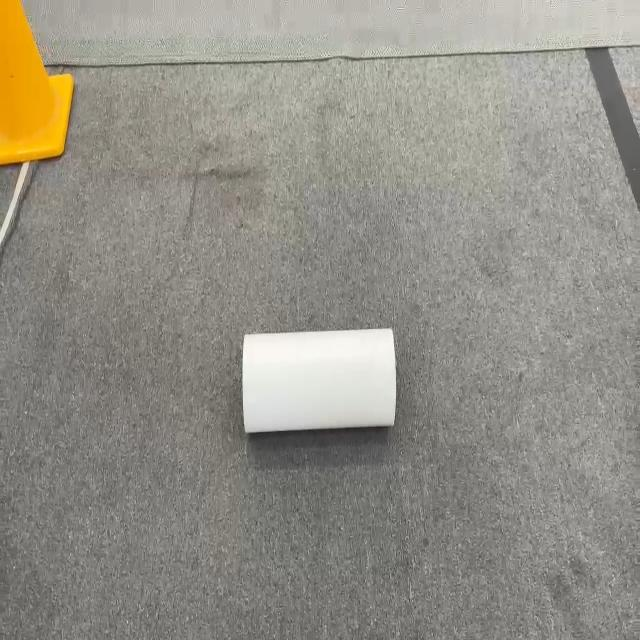coral: (241, 325, 397, 435)
